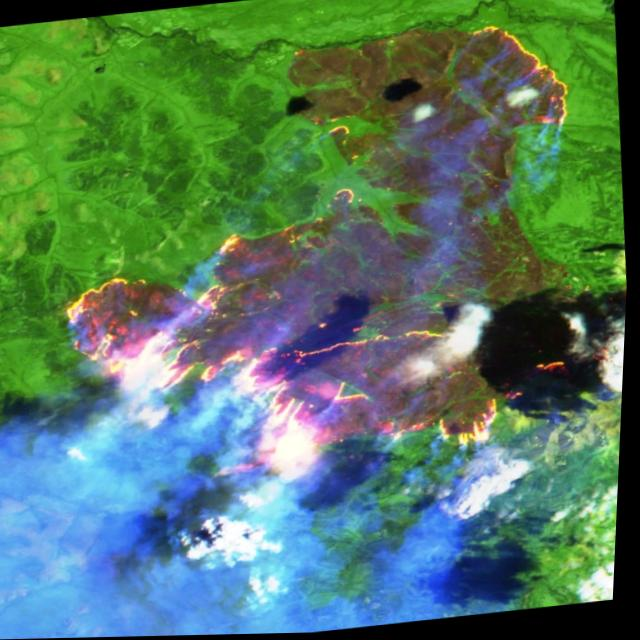fire: (35, 13, 639, 501)
